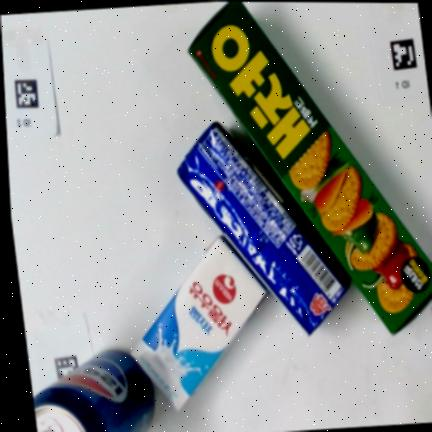can_pepsi: (33, 349, 155, 432)
cracker_ace: (177, 121, 349, 334)
cracker_vege: (189, 2, 432, 335)
milk_blue: (131, 237, 266, 411)
